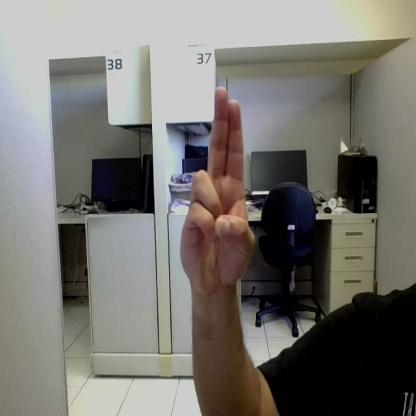U: (181, 87, 255, 294)
